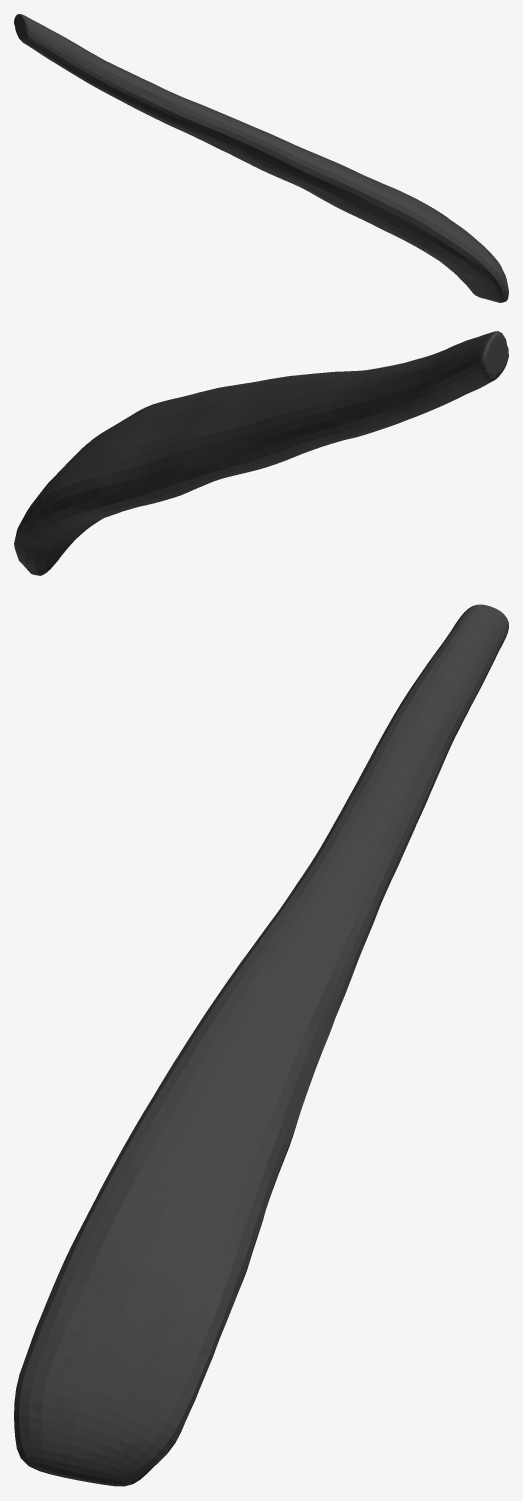
Rendered from Rect_lateralis.glb.
The picture shows the model from 3 angles, top to bottom: view 1: azimuth 30°, elevation 25°; view 2: azimuth 150°, elevation 25°; view 3: azimuth 270°, elevation 25°; orthographic projection. The views are drawn at different scales.
Visible parts, largest first — view 1: Rect_lateralis; view 2: Rect_lateralis; view 3: Rect_lateralis.
Boxes of the visible parts, x1,y1,x2,y2 form: Rect_lateralis: (14, 14, 508, 302); Rect_lateralis: (14, 331, 508, 575); Rect_lateralis: (14, 604, 508, 1486).
Bounding box in the file's own units: 0.0231 × 0.0178 × 0.0144.
1 material, 1 textured.
